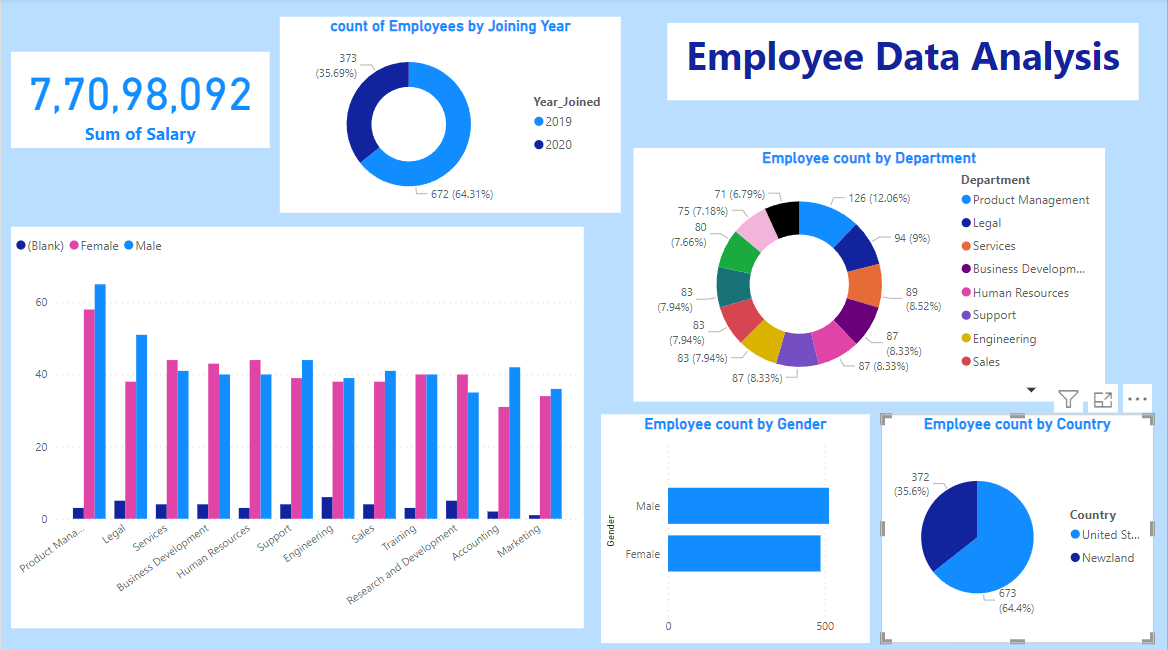

The page's visual inventory and layout, read from the dashboard file:
{"tool":"powerbi","page":{"name":"Page 1","canvas":[1280,720],"ordinal":0},"visuals":[{"type":"card","fields":{"Values":["Sum(Emp_Data.Salary)"]},"box":[11,59,284,105.7],"z":0},{"type":"barChart","title":"Employee count by Gender","fields":{"Category":["Emp_Data.Gender"],"Y":["CountNonNull(Emp_Data.Gender)"]},"box":[658.7,456.9,295,251.1],"z":1000},{"type":"clusteredColumnChart","title":"Employee Count","fields":{"Category":["Emp_Data.Department"],"Y":["CountNonNull(Emp_Data.Full_Name)"],"Series":["Emp_Data.Gender"]},"box":[11,251.1,628.5,440.5],"z":2000},{"type":"donutChart","title":"Employee count by Department","fields":{"Category":["Emp_Data.Department"],"Y":["CountNonNull(Emp_Data.Department)"]},"box":[694.3,164.7,517.3,278.6],"z":3000},{"type":"pieChart","title":"Employees count by Country","fields":{"Category":["Emp_Data.Country"],"Y":["CountNonNull(Emp_Data.Full_Name)"]},"box":[966,456.9,299.1,251.1],"z":4000},{"type":"donutChart","title":"count of Employees by Joining Year","fields":{"Category":["Emp_Data.Year_Joined"],"Y":["CountNonNull(Emp_Data.Full_Name)"]},"box":[306,20.6,374.6,215.4],"z":5000},{"type":"textbox","box":[731.4,27.4,517.3,85.1],"z":5001}]}

Visuals, with their boxes in screenshot pixels (x1, y1, x2, y2), scaled from the page's 1280x720 canvas onto the 1168x650 screenshot:
card - Sum(Emp_Data.Salary): (10,53,269,149)
"Employee count by Gender" barChart: (601,412,870,639)
"Employee Count" clusteredColumnChart: (10,227,584,624)
"Employee count by Department" donutChart: (634,149,1106,400)
"Employees count by Country" pieChart: (881,412,1154,639)
"count of Employees by Joining Year" donutChart: (279,19,621,213)
textbox: (667,25,1139,102)
